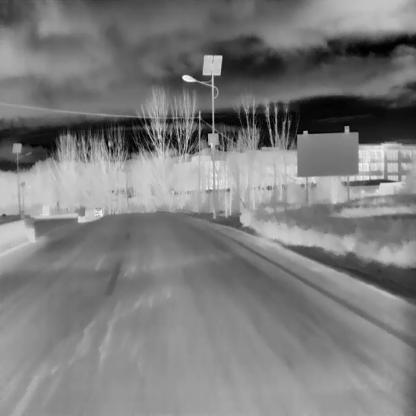car: (92, 206, 103, 216)
